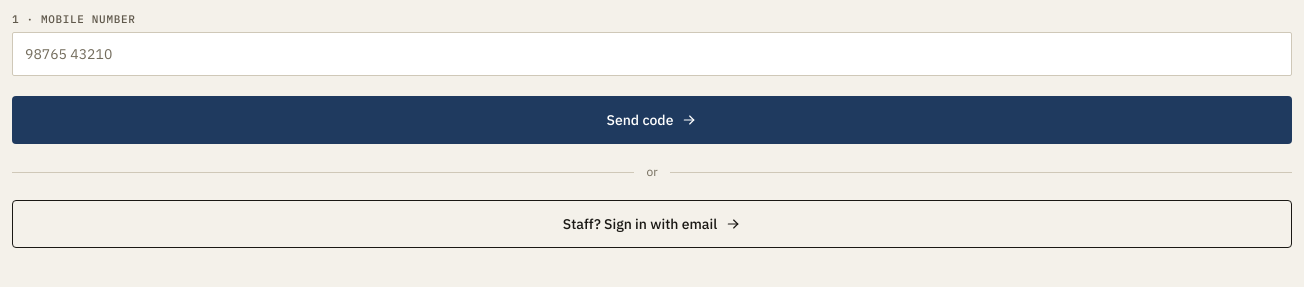
Test case: SignUpForm › validates the mobile number
The image size is (1304, 287).
Type "12345" into the field labelled "1 · Mobile number" at (652, 54), box [25,44,1279,64]
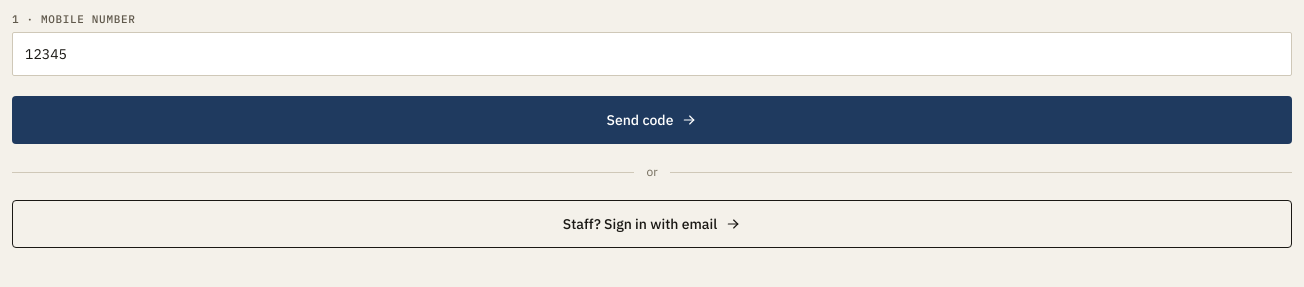
Click the button "Send code" at (652, 120), box [12,96,1292,144]
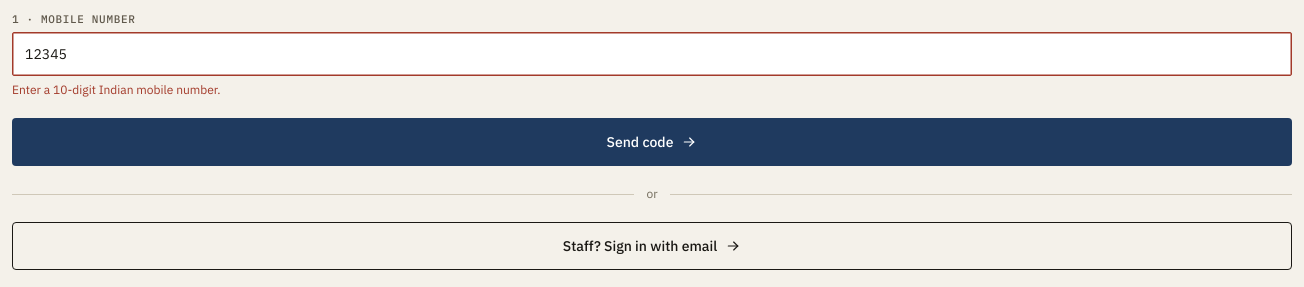
Expected: the text "Enter a 10-digit Indian mobile number." is shown, [12,82,220,97]
